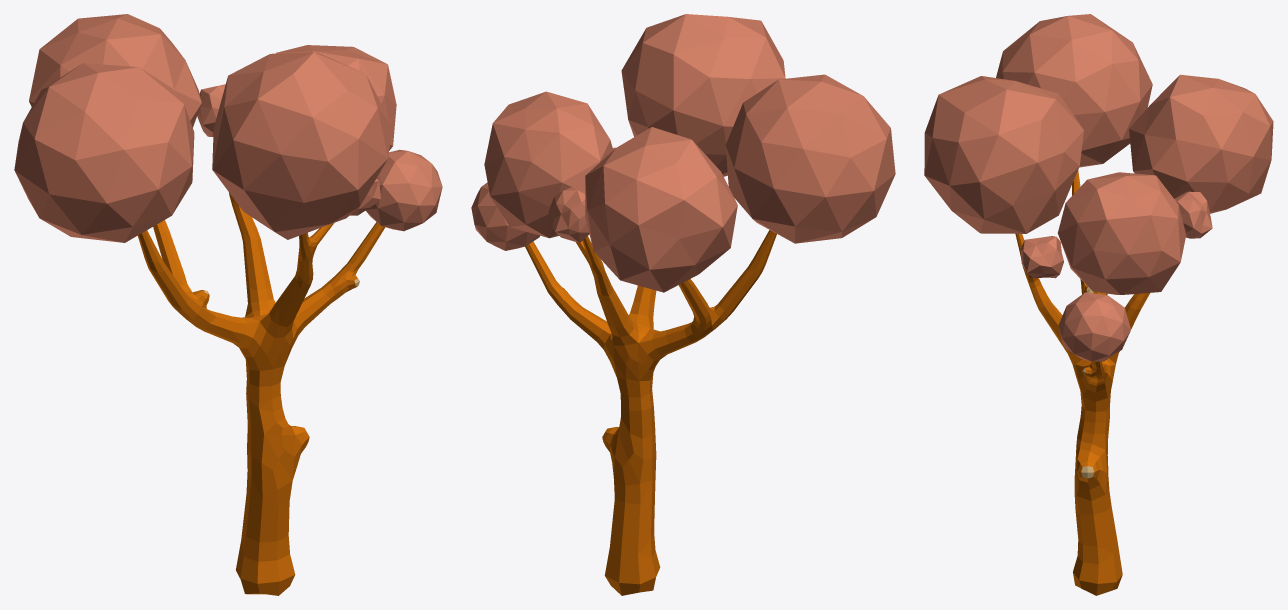
Rendered from Tree02.fbx.
3 renders of one model, left to right at view 1: azimuth 30°, elevation 25°; view 2: azimuth 150°, elevation 25°; view 3: azimuth 270°, elevation 25°, orthographic. The views are drawn at different scales.
Visible parts, largest first — view 1: Plane; view 2: Plane; view 3: Plane.
Part boxes in pixels (x1,y1,x2,y2): Plane: (14, 14, 442, 595); Plane: (471, 14, 895, 595); Plane: (924, 14, 1273, 595).
Bounding box in the file's own units: 525 × 688 × 435.
